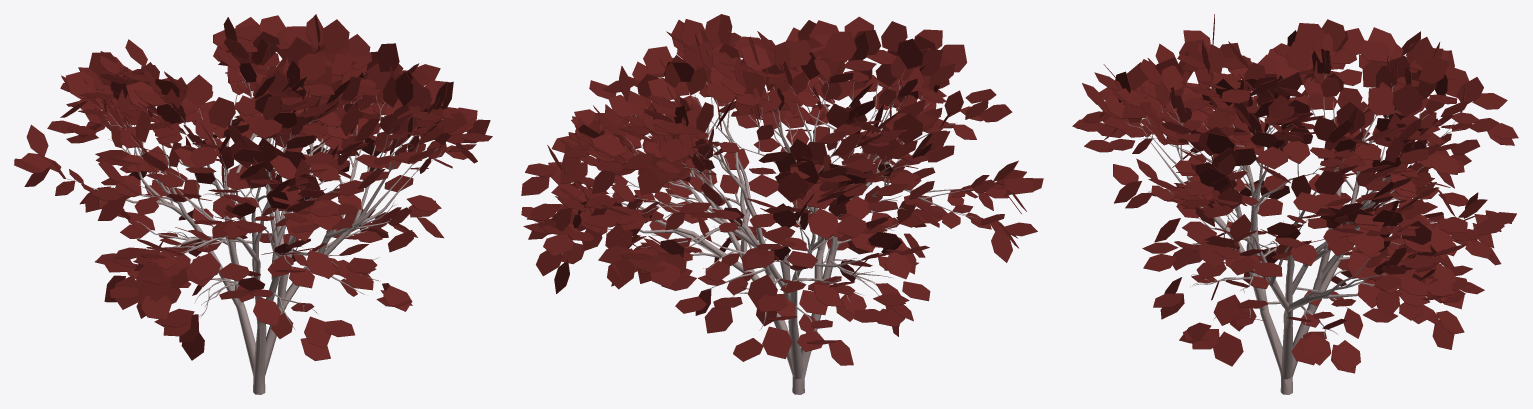
Rendered from red_trees3.gltf.
3 renders of one model, left to right at view 1: azimuth 30°, elevation 25°; view 2: azimuth 150°, elevation 25°; view 3: azimuth 270°, elevation 25°, orthographic.
Visible parts, largest first — view 1: tree without motion.003; view 2: tree without motion.003; view 3: tree without motion.003.
Part boxes in pixels (x1,y1,x2,y2): tree without motion.003: (14,14,492,394); tree without motion.003: (521,14,1043,394); tree without motion.003: (1072,14,1518,394).
Size of the model in its own units: 32.04 by 25.95 by 30.74.
Materials: 1 (1 with a texture image).
